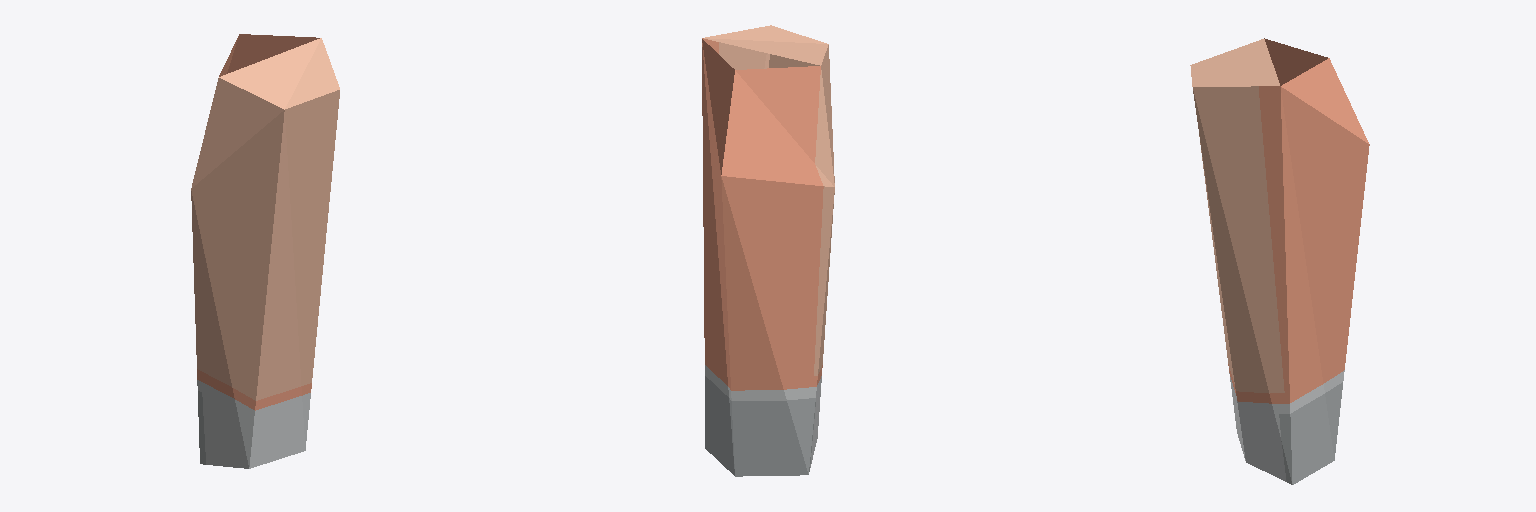
3 renders of one model, left to right at view 1: azimuth 30°, elevation 25°; view 2: azimuth 150°, elevation 25°; view 3: azimuth 270°, elevation 25°, orthographic.
Visible parts, largest first — view 1: 11_LEG_RIGHT_BOTTOM; view 2: 11_LEG_RIGHT_BOTTOM; view 3: 11_LEG_RIGHT_BOTTOM.
Boxes of the visible parts, <box> form: 11_LEG_RIGHT_BOTTOM: <box>191,34,339,468</box>; 11_LEG_RIGHT_BOTTOM: <box>702,25,834,476</box>; 11_LEG_RIGHT_BOTTOM: <box>1190,38,1369,484</box>.
Size of the model in its own units: 0.1257 by 0.368 by 0.1479.
1 materials, 1 textured.